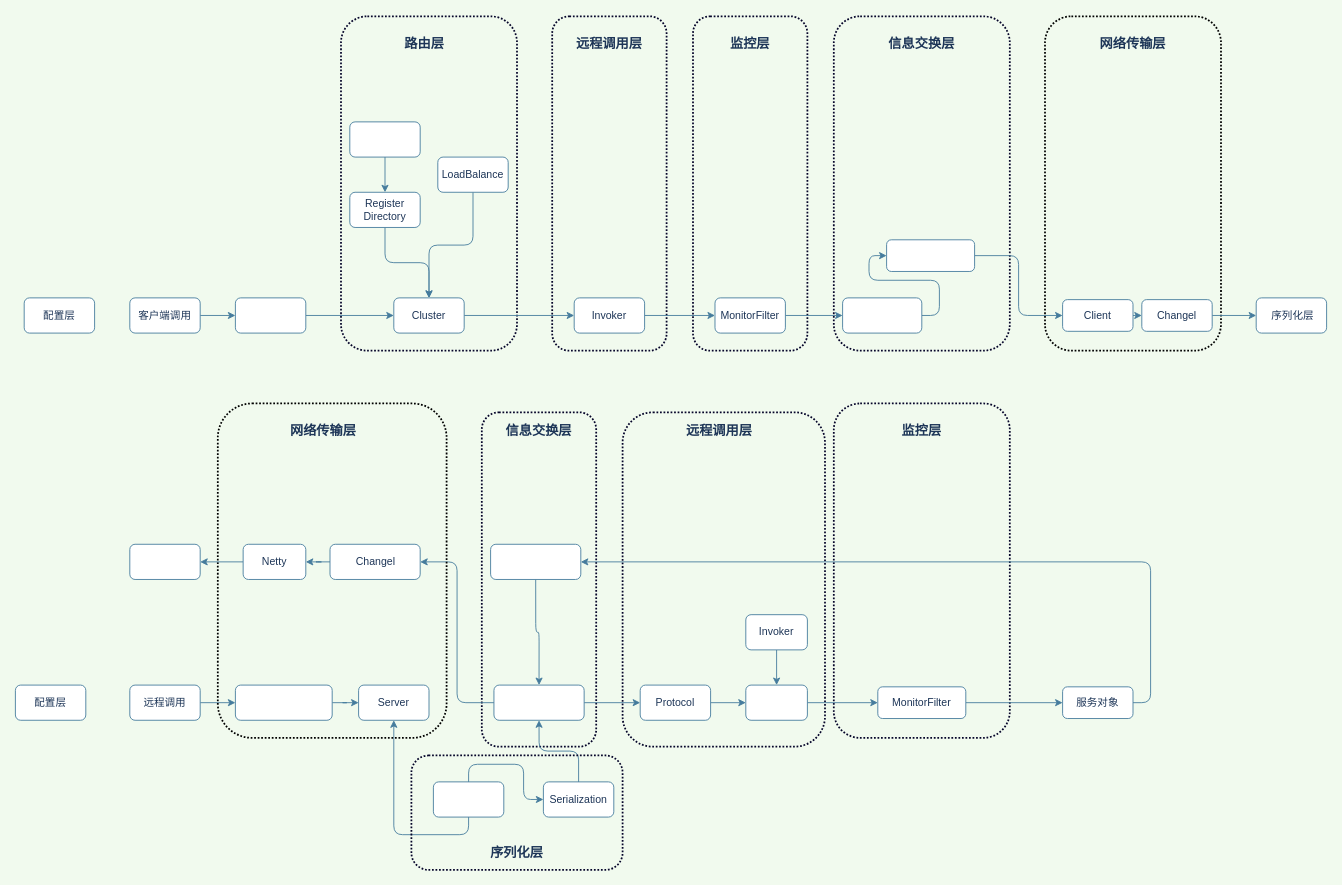
Some shapes in this 1342 by 885 pixel diagram are drawn without their labels. Each missing label, with the centre of its shape:
Codec: 解析报文头: the point at 283,702
ExchangeChangel: the point at 930,255
ExchangeChannel: the point at 538,702
ExchangeClient: the point at 882,315
Exporter: the point at 776,702
Register Chain: the point at 384,139
Response: the point at 535,561
ThreadPool: the point at 468,799
服务代理层: the point at 270,315
返还调用方: the point at 164,561
